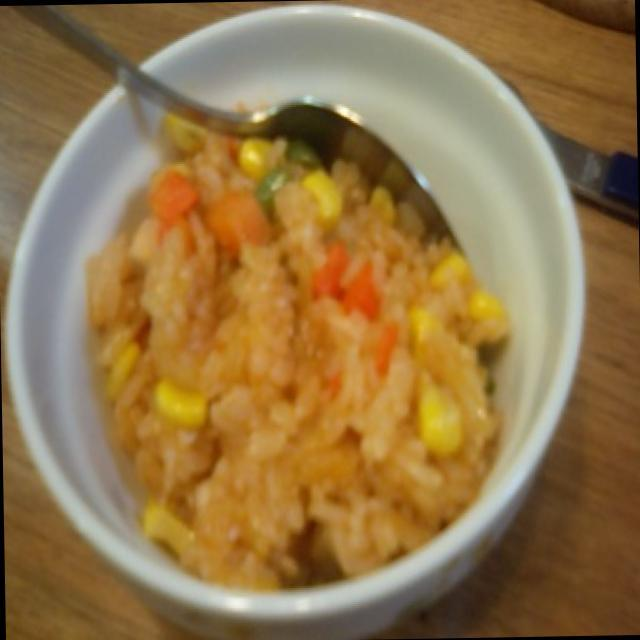Rice: (89, 120, 502, 578)
